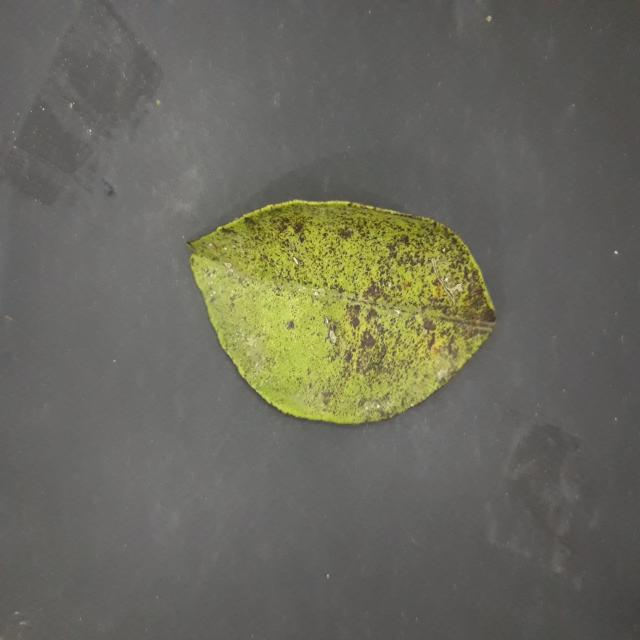greasy_spot: (189, 200, 495, 423)
